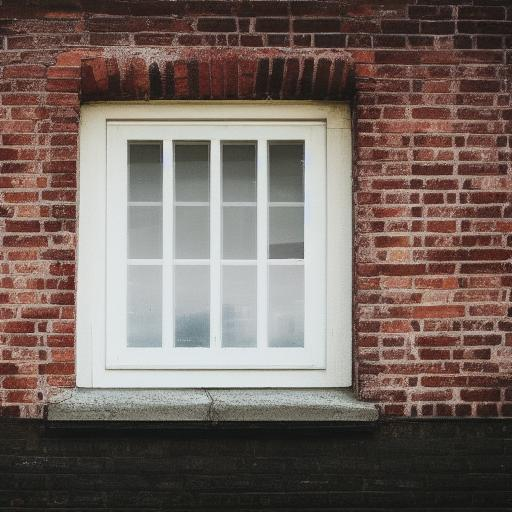Window: (41, 45, 383, 424)
